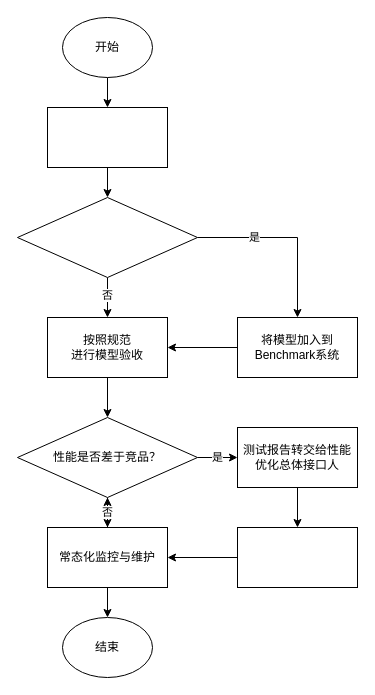
Some shapes in this 375 by 695 pixel diagram are drawn without their labels. Here are the shapes that lost their labels. From the top down, the centre of each, then its label:
At (107,137): "套件模型新增提测".
At (107,237): "是否需要列为关键模型？".
At (297,557): "安排同学 进行性能优化".
